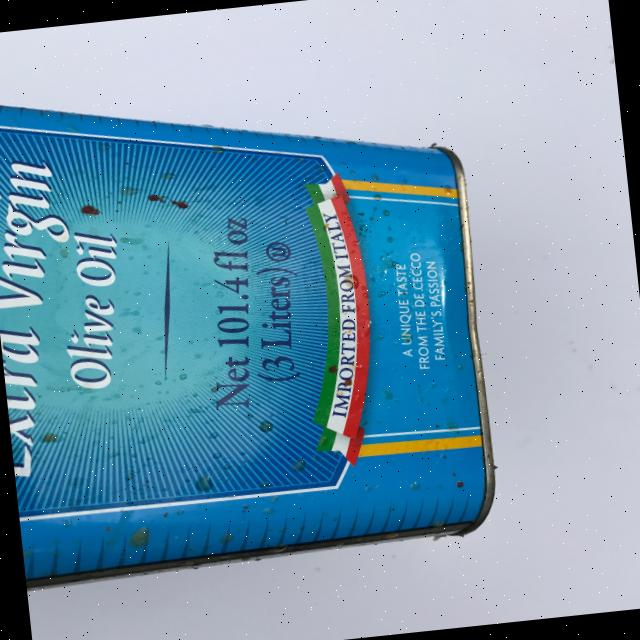metal: (0, 51, 504, 588)
